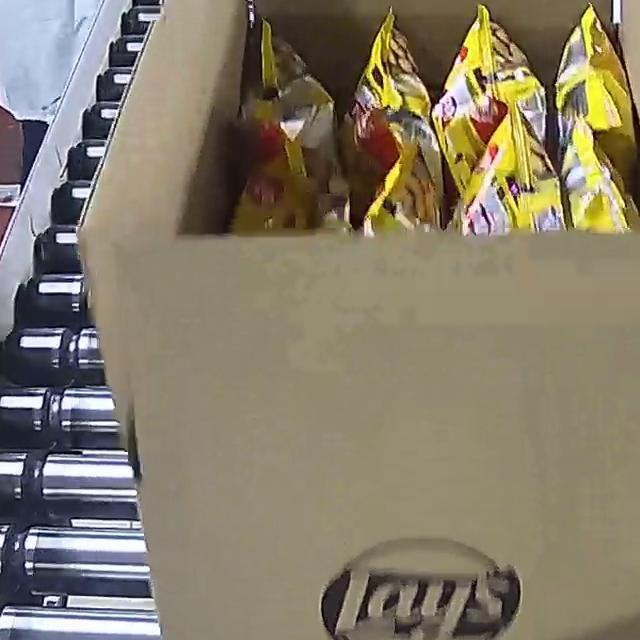salted: (219, 1, 640, 262)
